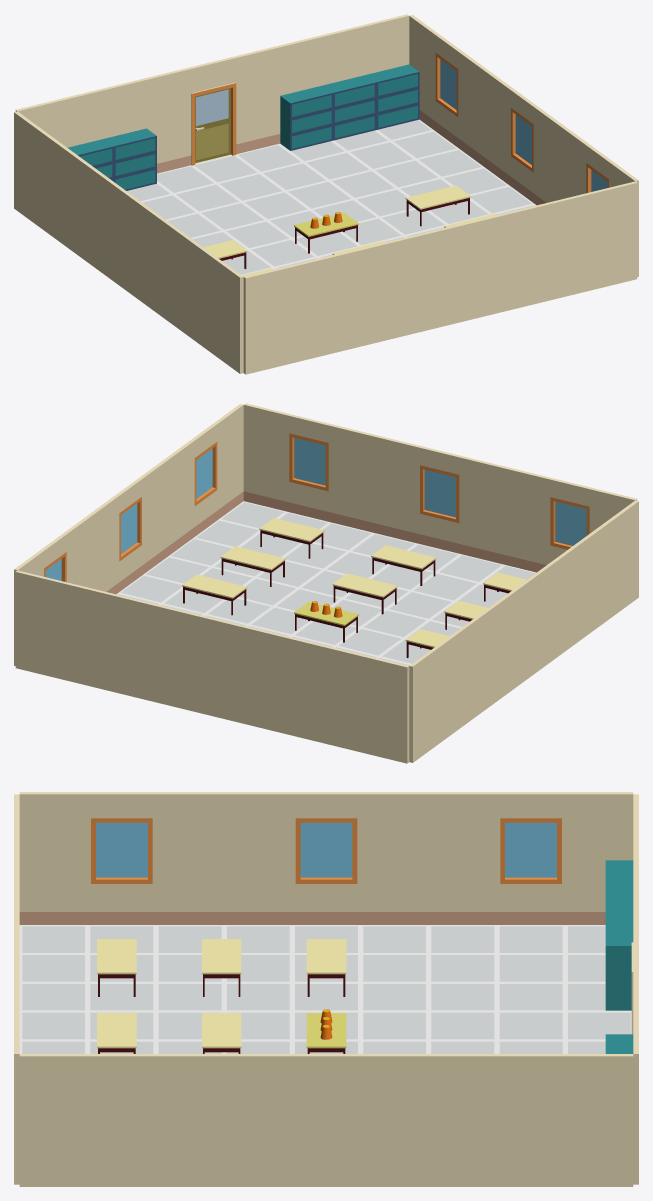
Rendered from map_class.fbx.
3 views of the same model, one above another, from view 1: azimuth 30°, elevation 25°; view 2: azimuth 150°, elevation 25°; view 3: azimuth 270°, elevation 25° (orthographic). The views are drawn at different scales.
Parts seen in each view (by area): view 1: class, desk.006, desk, desk.001; view 2: class, desk.002, desk.008, desk.004, desk.007, desk.006, desk, desk.001, desk.003, desk.005; view 3: class, desk.001, desk.005, desk.003, desk.004, desk.002, desk.
Boxes of the visible parts, <box> form: class: <box>14,14,638,374</box>; desk.006: <box>405,185,470,226</box>; desk: <box>294,213,358,253</box>; desk.001: <box>203,240,247,268</box>; class: <box>14,403,638,763</box>; desk.002: <box>332,573,397,614</box>; desk.008: <box>259,518,324,558</box>; desk.004: <box>371,545,436,585</box>; desk.007: <box>220,546,285,586</box>; desk.006: <box>182,574,247,615</box>; desk: <box>294,602,358,642</box>; desk.001: <box>405,629,449,657</box>; desk.003: <box>444,601,487,629</box>; desk.005: <box>483,572,526,601</box>; class: <box>14,792,638,1186</box>; desk.001: <box>306,939,346,996</box>; desk.005: <box>97,939,136,996</box>; desk.003: <box>202,939,241,996</box>; desk.004: <box>97,1013,136,1053</box>; desk.002: <box>202,1013,241,1053</box>; desk: <box>306,1013,346,1053</box>.
Bounding box in the file's own units: 6.52 × 1.5 × 6.52.
Materials: 2 (2 with a texture image).
